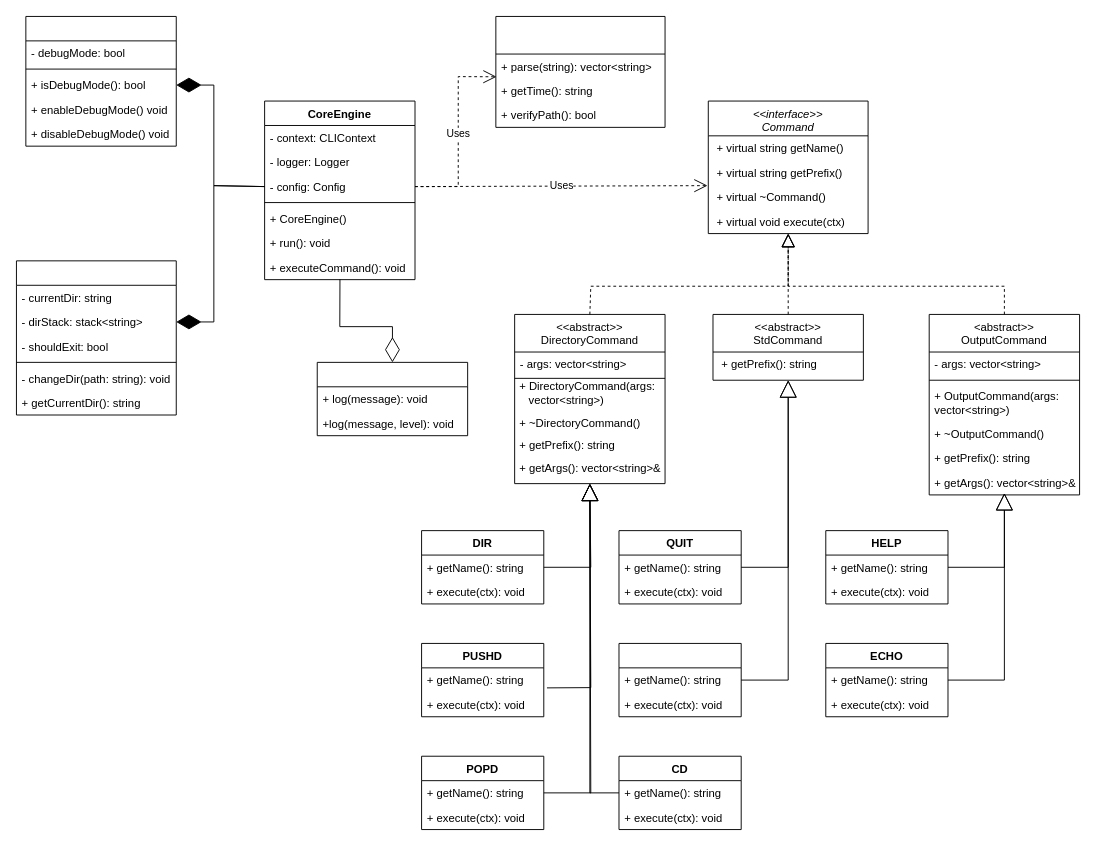
This 1096x849 diagram has some shape labels left out. Each missing label, with the box of its shape:
<<namespace> Utils: (495, 16, 665, 127)
CLIContext: (16, 260, 176, 415)
CLS: (618, 642, 741, 717)
Config: (25, 16, 176, 146)
Logger: (316, 361, 468, 436)
